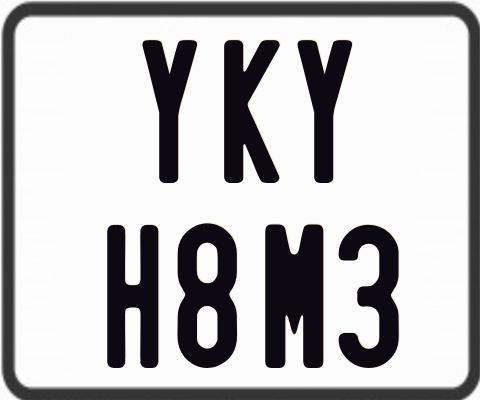3: (339, 223, 402, 372)
8: (176, 223, 239, 374)
H: (105, 224, 159, 373)
K: (223, 37, 281, 182)
M: (264, 221, 325, 368)
Y: (296, 39, 354, 187), (140, 37, 194, 185)
